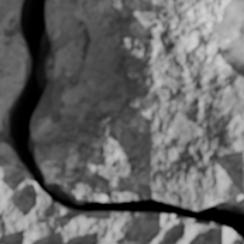brick: (40, 0, 243, 209)
crack: (1, 0, 243, 243)
